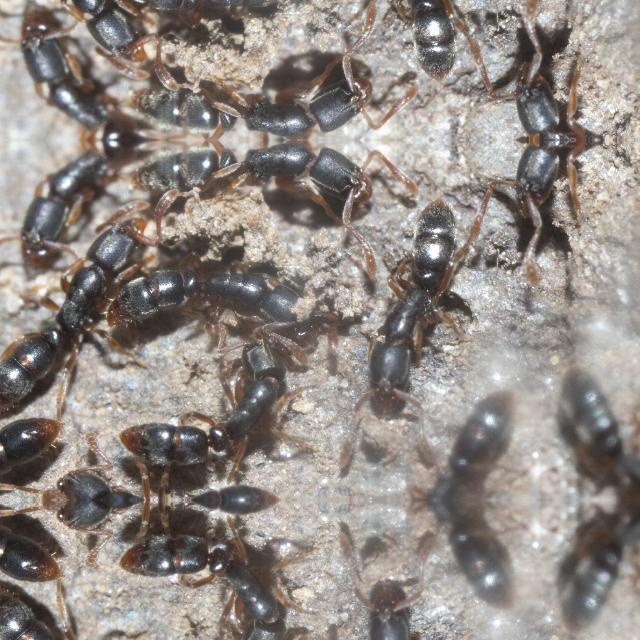Ponera: (330, 196, 488, 440), (0, 212, 144, 402), (125, 332, 308, 476), (125, 522, 308, 640), (119, 140, 388, 220), (119, 60, 388, 140), (398, 371, 566, 499), (398, 501, 566, 629), (106, 237, 324, 333), (475, 140, 619, 284), (475, 0, 619, 140), (21, 140, 127, 270), (21, 10, 127, 140), (329, 0, 486, 84), (329, 560, 486, 640), (558, 345, 640, 493), (558, 506, 638, 640), (0, 0, 144, 68), (105, 0, 322, 42), (0, 596, 144, 640), (0, 402, 68, 468), (0, 530, 68, 596), (46, 456, 130, 499), (46, 501, 130, 544)
